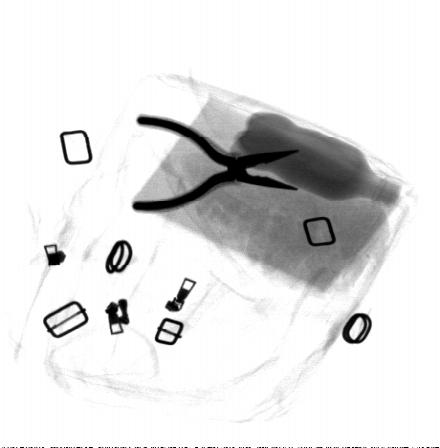Pliers: (130, 113, 302, 213)
